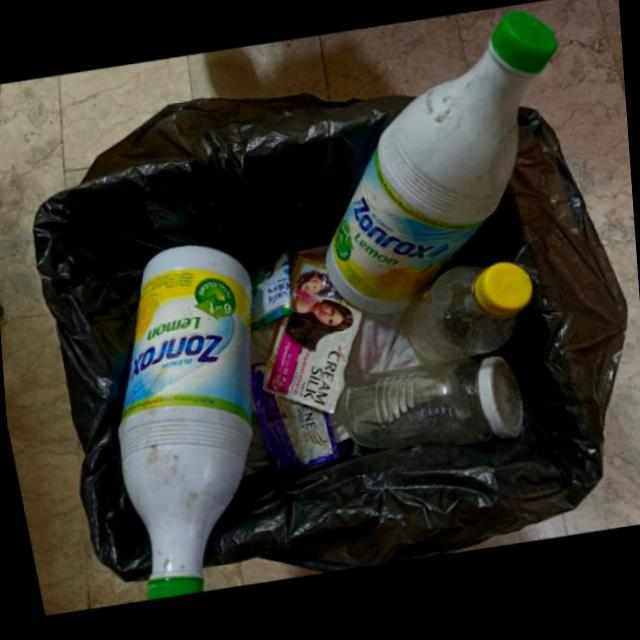chai_nhua: (326, 10, 559, 316), (116, 247, 252, 602)
chai_nhua_pet: (402, 261, 533, 363)
chai_thuy_tinh: (339, 356, 523, 450)
goi_nhua_nho: (260, 290, 361, 415), (249, 363, 338, 473), (246, 250, 290, 332), (289, 256, 340, 301)
